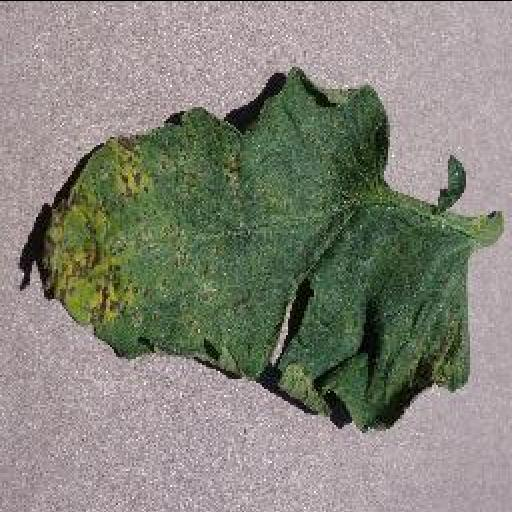disease_tomato: (34, 68, 470, 436)
